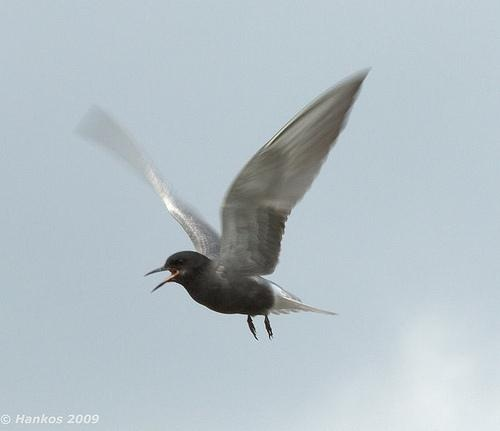bird: (68, 65, 380, 341)
